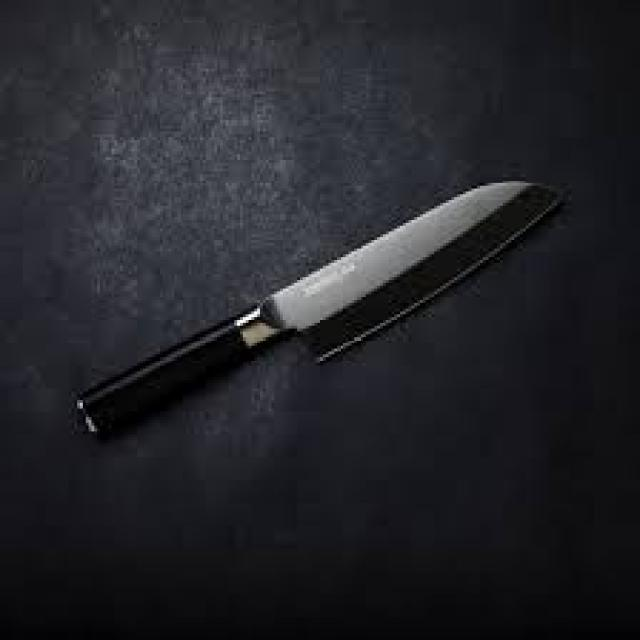knives: (60, 99, 589, 484)
